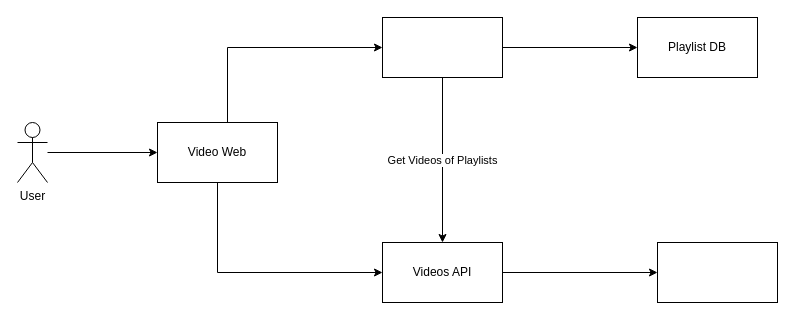
Image size: 795x320. Some labels were removed from this diagram. Each missing label, with the centre of its shape:
"Playlist API" belongs at (442,47).
"Videos DB" belongs at (717,272).
